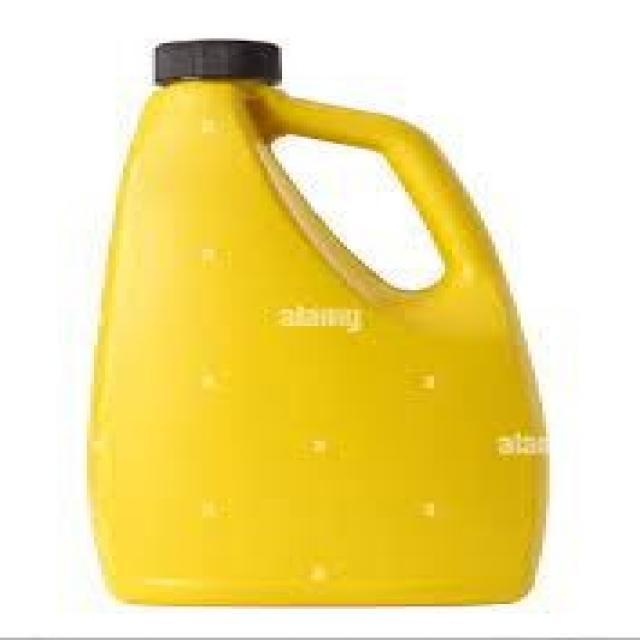HDPE Plastic: (80, 62, 554, 611)
